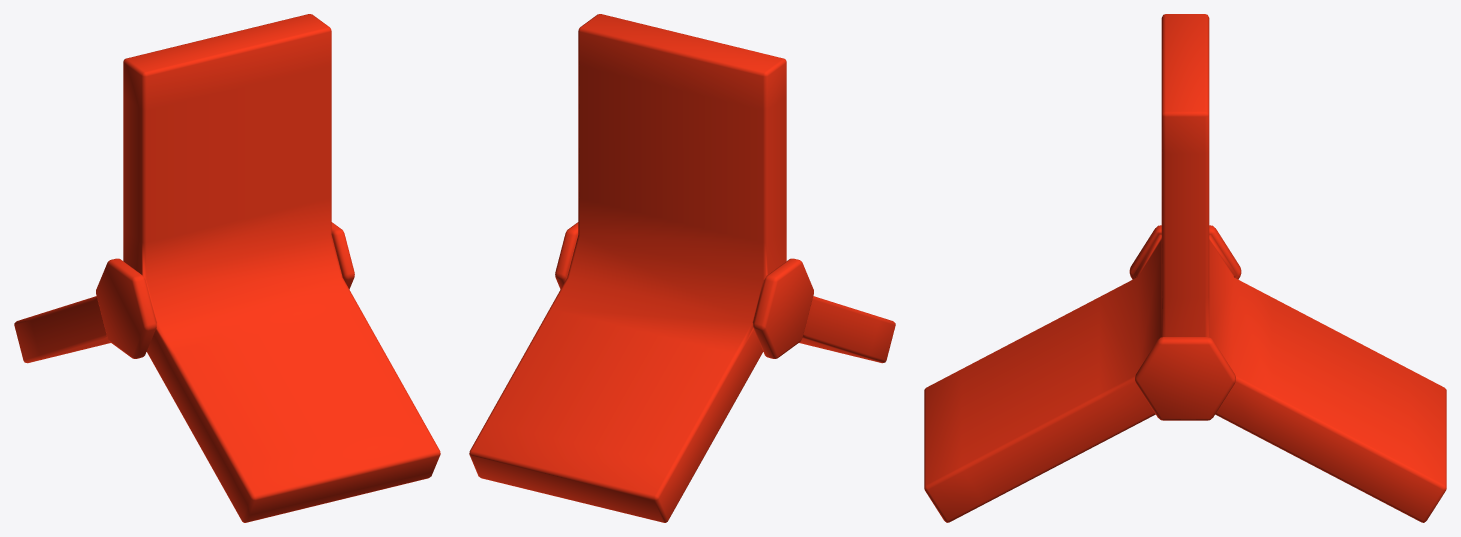
File: trap_platform3facesvertical.glb
3 renders of one model, left to right at view 1: azimuth 30°, elevation 25°; view 2: azimuth 150°, elevation 25°; view 3: azimuth 270°, elevation 25°, orthographic. The views are drawn at different scales.
Visible parts, largest first — view 1: Cylinder.037_visual; view 2: Cylinder.037_visual; view 3: Cylinder.037_visual.
Part boxes in pixels (x1,y1,x2,y2): Cylinder.037_visual: [14, 14, 440, 522]; Cylinder.037_visual: [469, 14, 895, 522]; Cylinder.037_visual: [924, 14, 1446, 522].
Size of what is drawn, in the model's own units: 5.18 by 8.75 by 10.08.
1 material, 1 textured.
